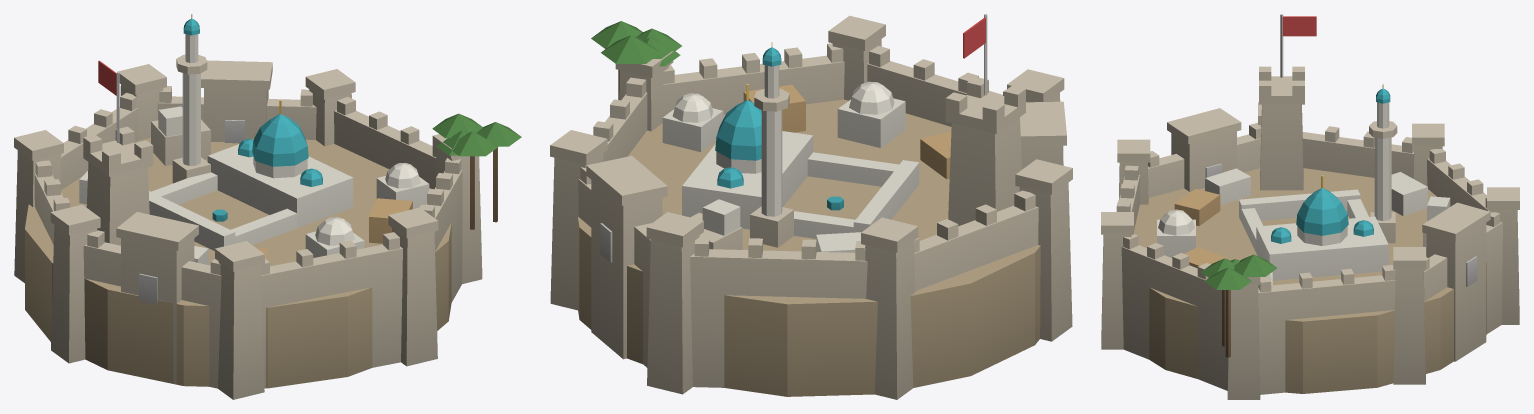
The model's file is town_isl_b.glb.
The picture shows the model from 3 angles, left to right: view 1: azimuth 30°, elevation 25°; view 2: azimuth 150°, elevation 25°; view 3: azimuth 270°, elevation 25°; orthographic projection. The views are drawn at different scales.
Visible parts, largest first — view 1: town_isl_b; view 2: town_isl_b; view 3: town_isl_b.
Part boxes in pixels (x1,y1,x2,y2): town_isl_b: (14, 14, 521, 399); town_isl_b: (550, 14, 1072, 399); town_isl_b: (1101, 14, 1519, 399).
Bounding box in the file's own units: 2.06 × 1.22 × 1.94.
